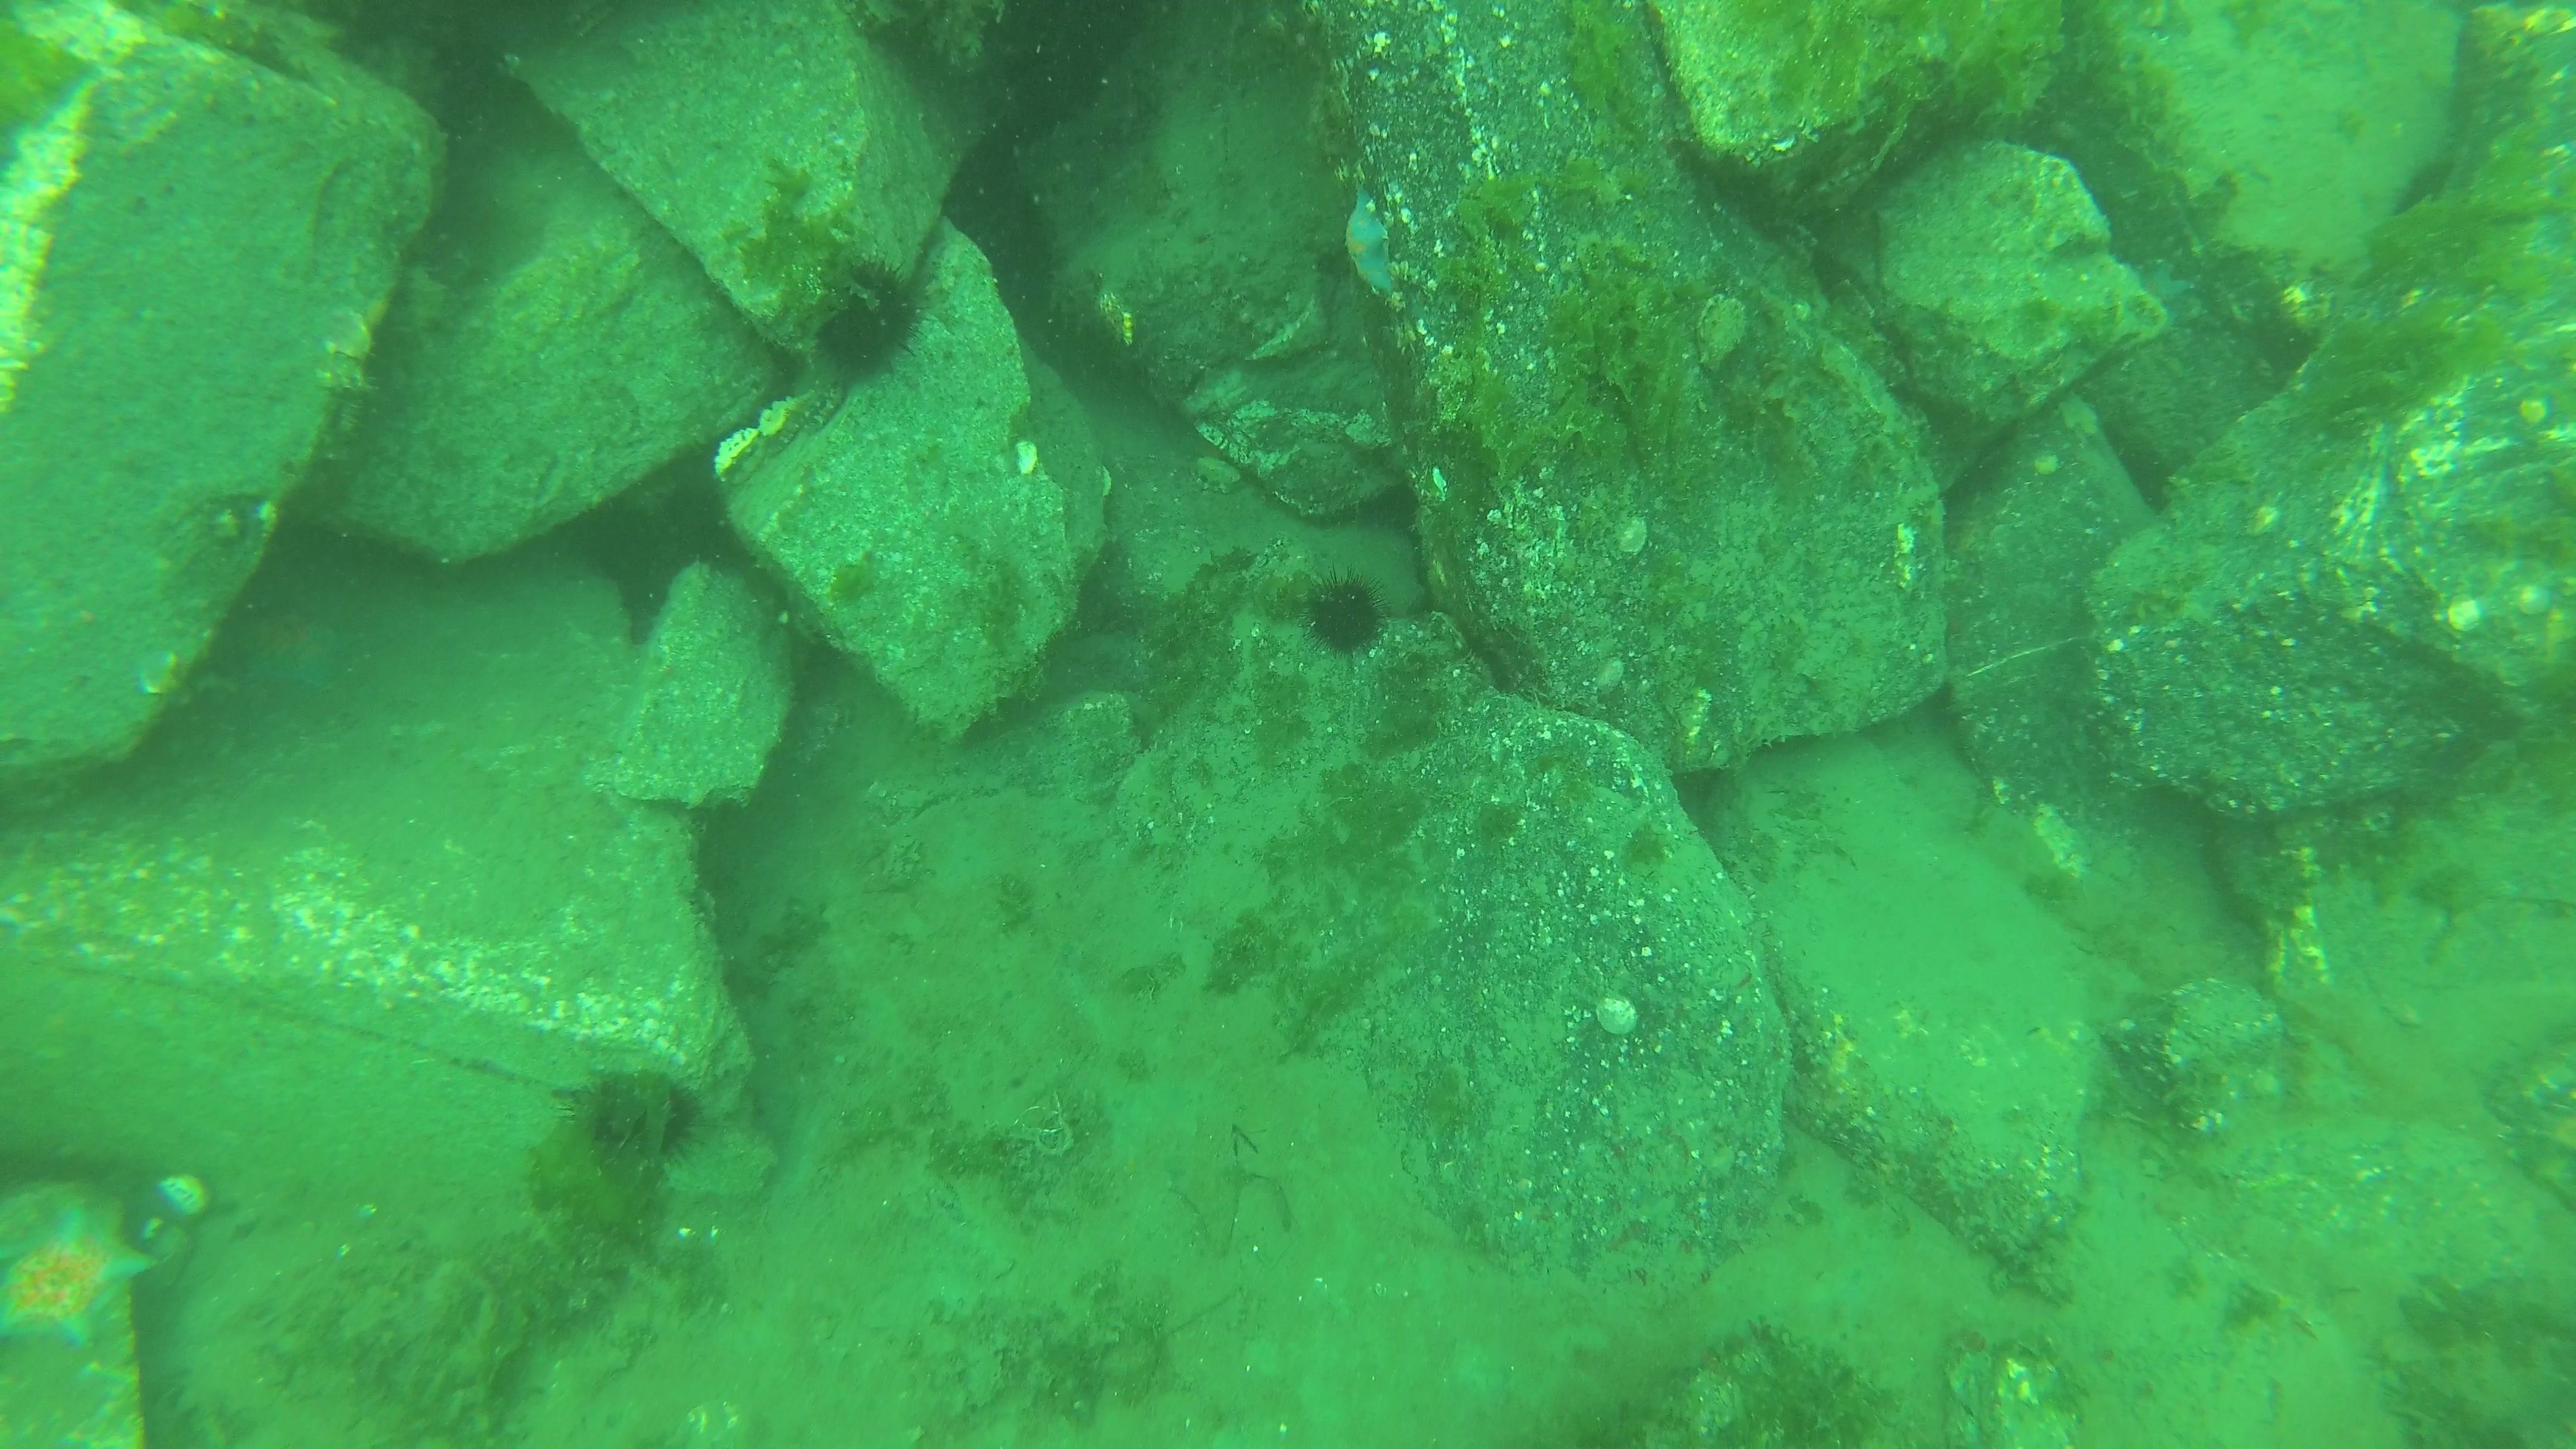echinus: (557, 1056, 713, 1175), (816, 255, 929, 382), (1300, 557, 1399, 665)
starfish: (2, 1200, 161, 1350), (1341, 179, 1401, 301)
